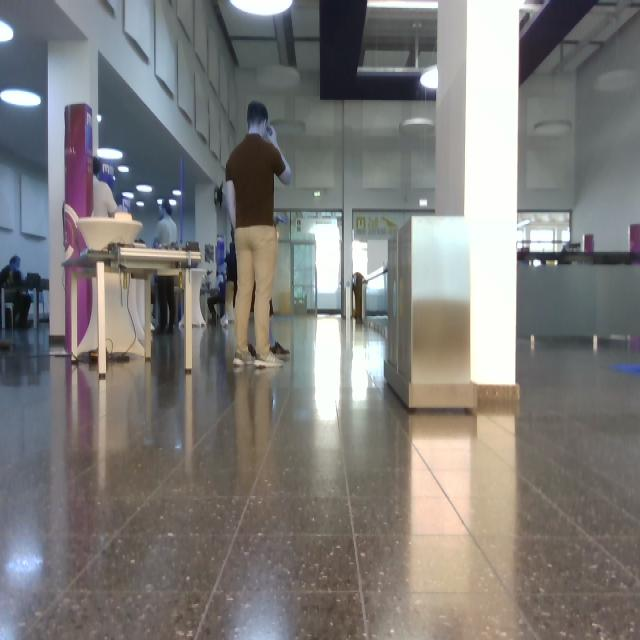door: (273, 212, 341, 316)
light bulb: (230, 1, 293, 16), (1, 89, 41, 108), (368, 1, 438, 10), (420, 65, 437, 89), (1, 20, 13, 42), (136, 185, 153, 193), (119, 166, 130, 173)
person: (227, 102, 291, 368), (1, 257, 32, 328), (156, 274, 176, 333), (154, 202, 177, 249)
pillar: (436, 1, 519, 386), (49, 42, 98, 337)
table: (64, 205, 206, 376)
tiled floor: (1, 318, 640, 640)
trash bin: (386, 217, 472, 406)
